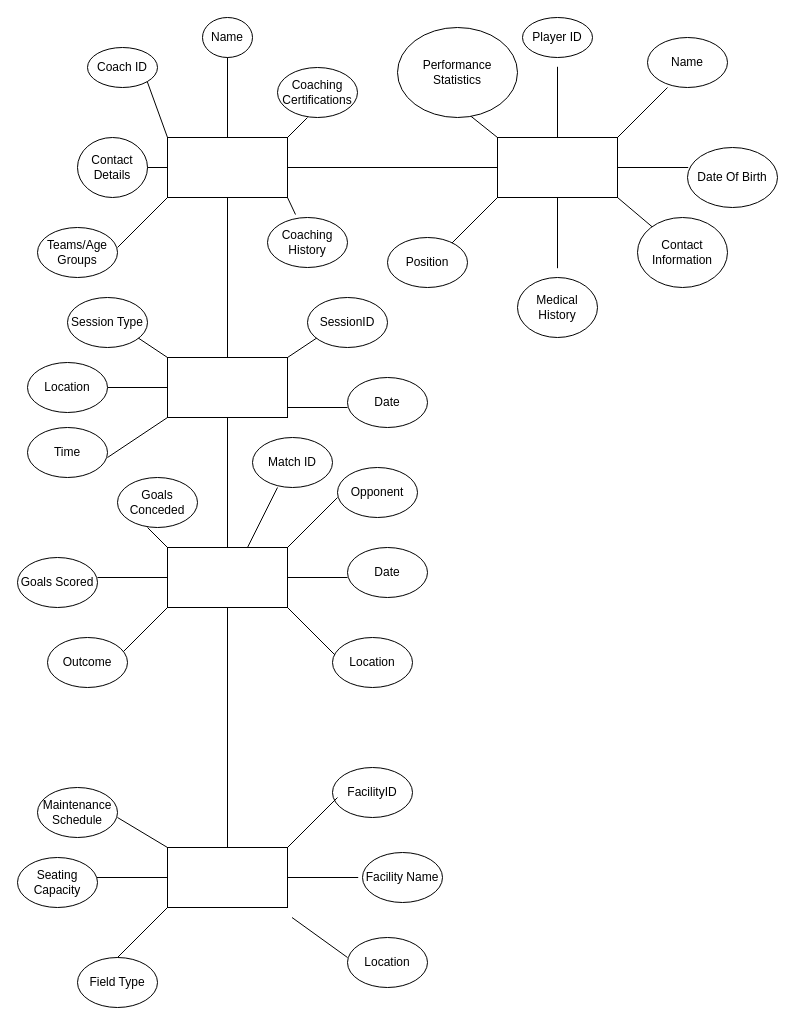
The diagram is 795 pixels wide and 1025 high, and some of its shapes have lost their labels. Each missing label, with the centre of its shape:
"Coaching Staff" belongs at pixel 227 167.
"Facilities" belongs at pixel 227 877.
"Matches" belongs at pixel 227 577.
"Players" belongs at pixel 557 167.
"Training Sessions" belongs at pixel 227 387.
